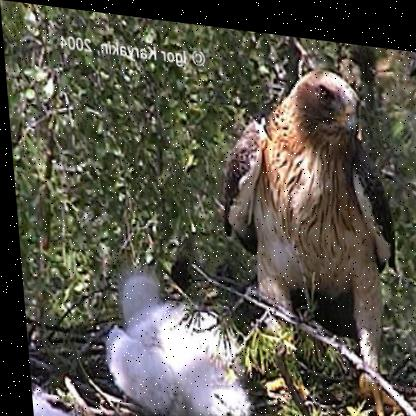Burung: (210, 50, 403, 414)
